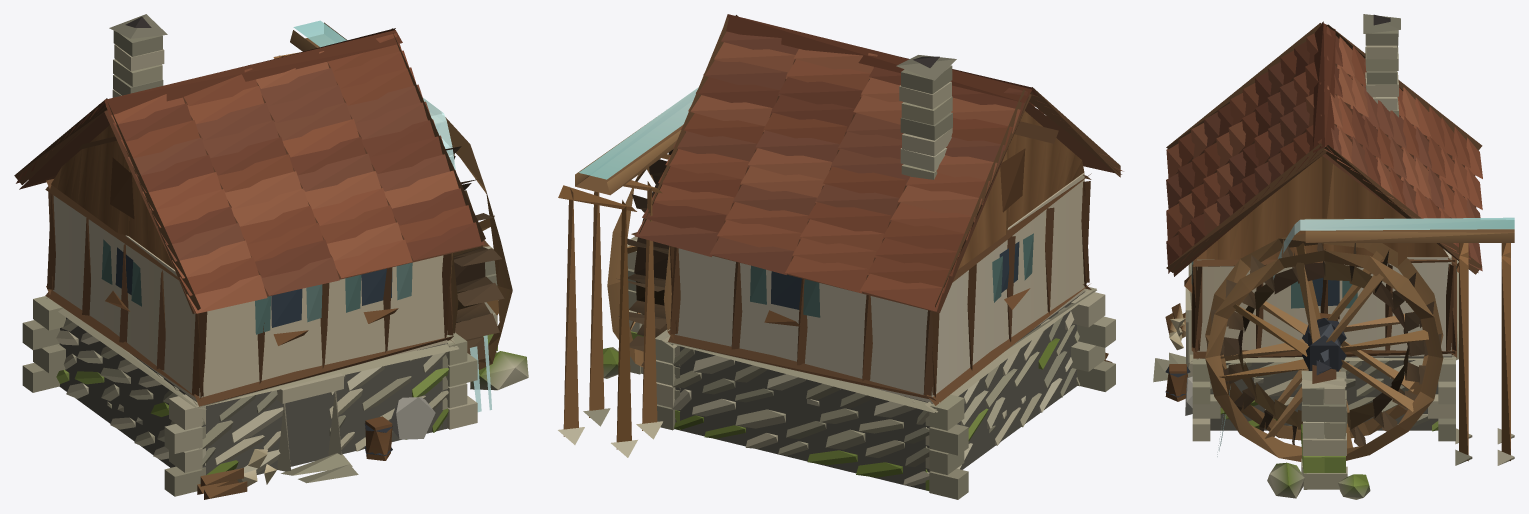
The model's file is river_mill-lod1.glb.
3 renders of one model, left to right at view 1: azimuth 30°, elevation 25°; view 2: azimuth 150°, elevation 25°; view 3: azimuth 270°, elevation 25°, orthographic. The views are drawn at different scales.
Visible parts, largest first — view 1: river_mill; view 2: river_mill; view 3: river_mill.
Boxes of the visible parts, left/top/right/bottom form: river_mill: left=14, top=14, right=528, bottom=499; river_mill: left=558, top=14, right=1123, bottom=499; river_mill: left=1153, top=14, right=1514, bottom=499.
Size of the model in its own units: 12.61 by 11.32 by 10.63.
